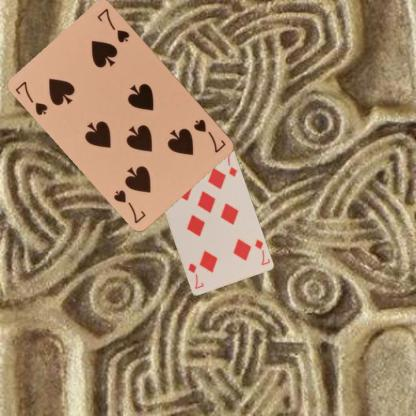7d: (252, 236, 271, 266)
7s: (12, 78, 50, 116), (190, 117, 228, 154)
